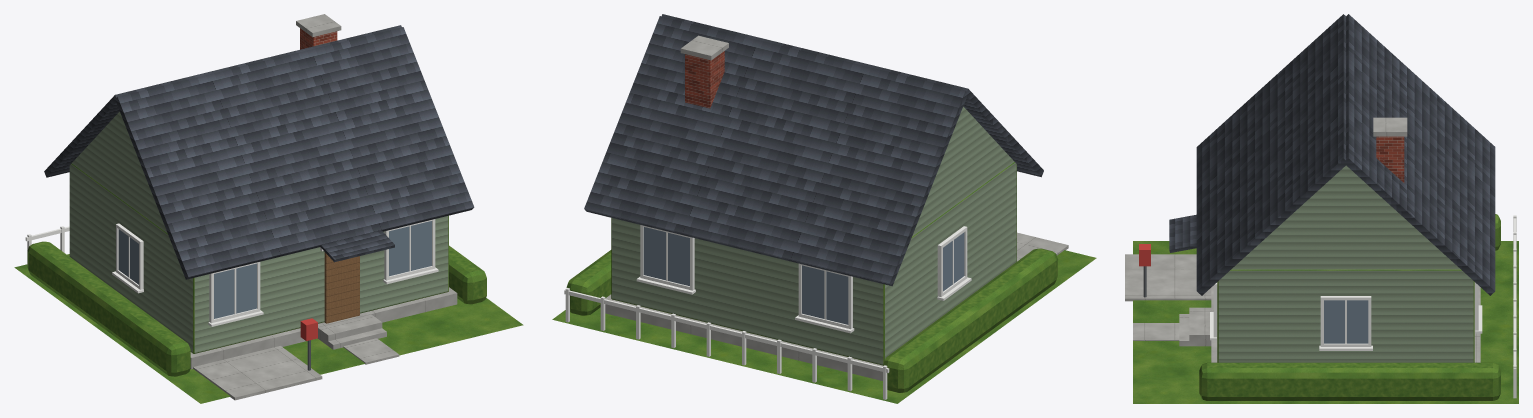
Rendered from house_4.gltf.
The picture shows the model from 3 angles, left to right: view 1: azimuth 30°, elevation 25°; view 2: azimuth 150°, elevation 25°; view 3: azimuth 270°, elevation 25°; orthographic projection. The views are drawn at different scales.
Parts seen in each view (by area): view 1: house_4; view 2: house_4; view 3: house_4.
Part boxes in pixels (<box>): house_4: <box>14,14,523,403</box>; house_4: <box>552,14,1096,403</box>; house_4: <box>1125,14,1518,403</box>.
Size of the model in its own units: 1.92 by 1.31 by 1.96.
11 materials, 7 textured.
